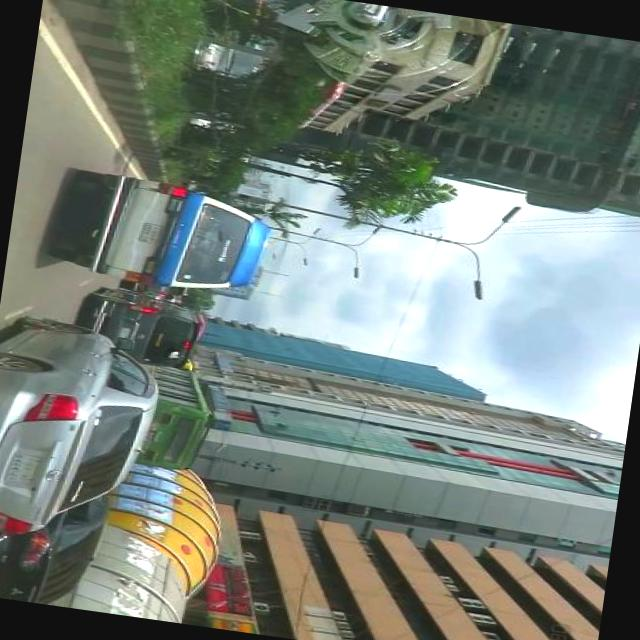bus: (137, 361, 218, 481)
car: (0, 311, 169, 555)
truck: (39, 162, 282, 304), (80, 284, 206, 374)
